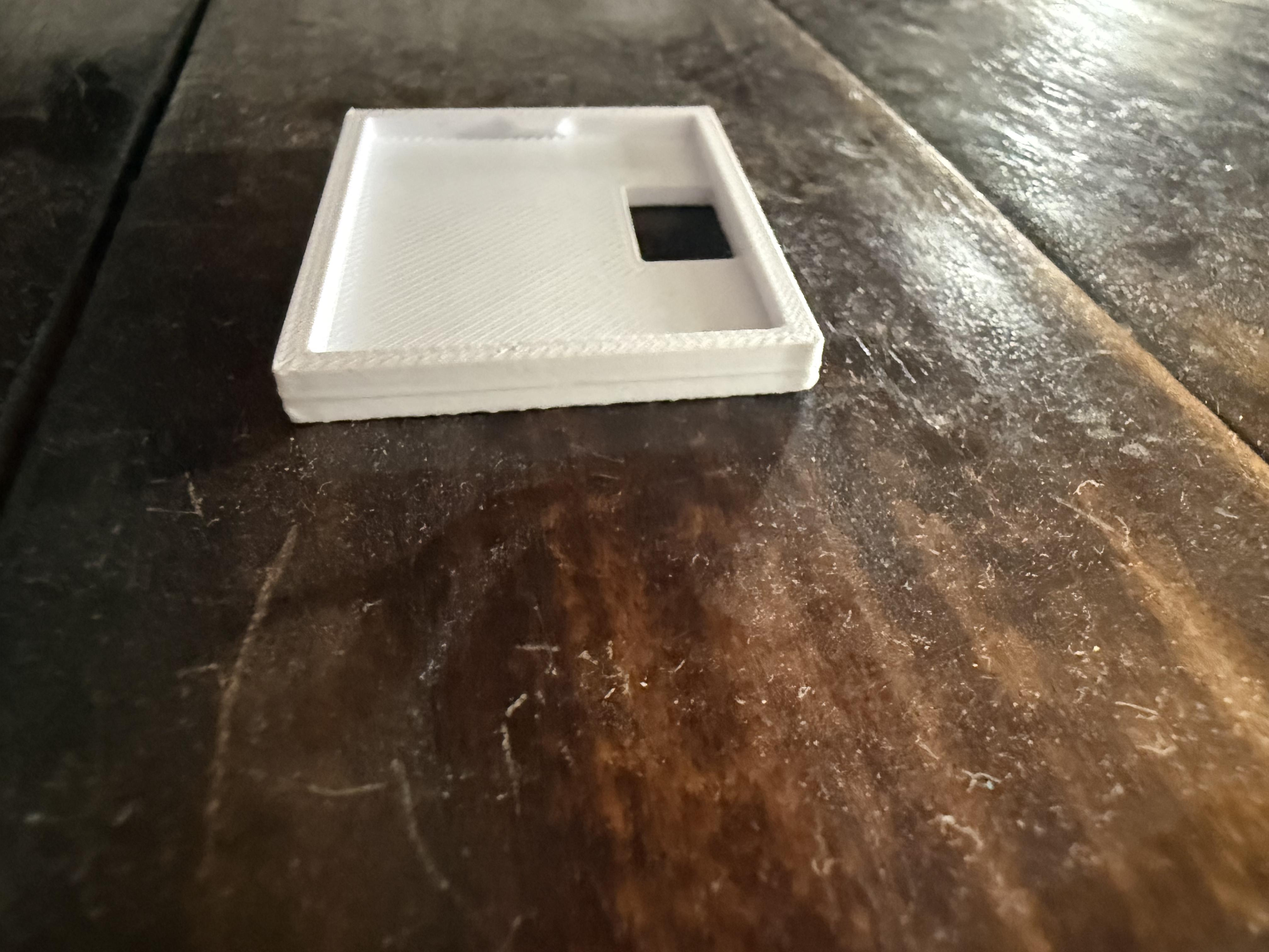enclosure: (271, 105, 825, 423)
